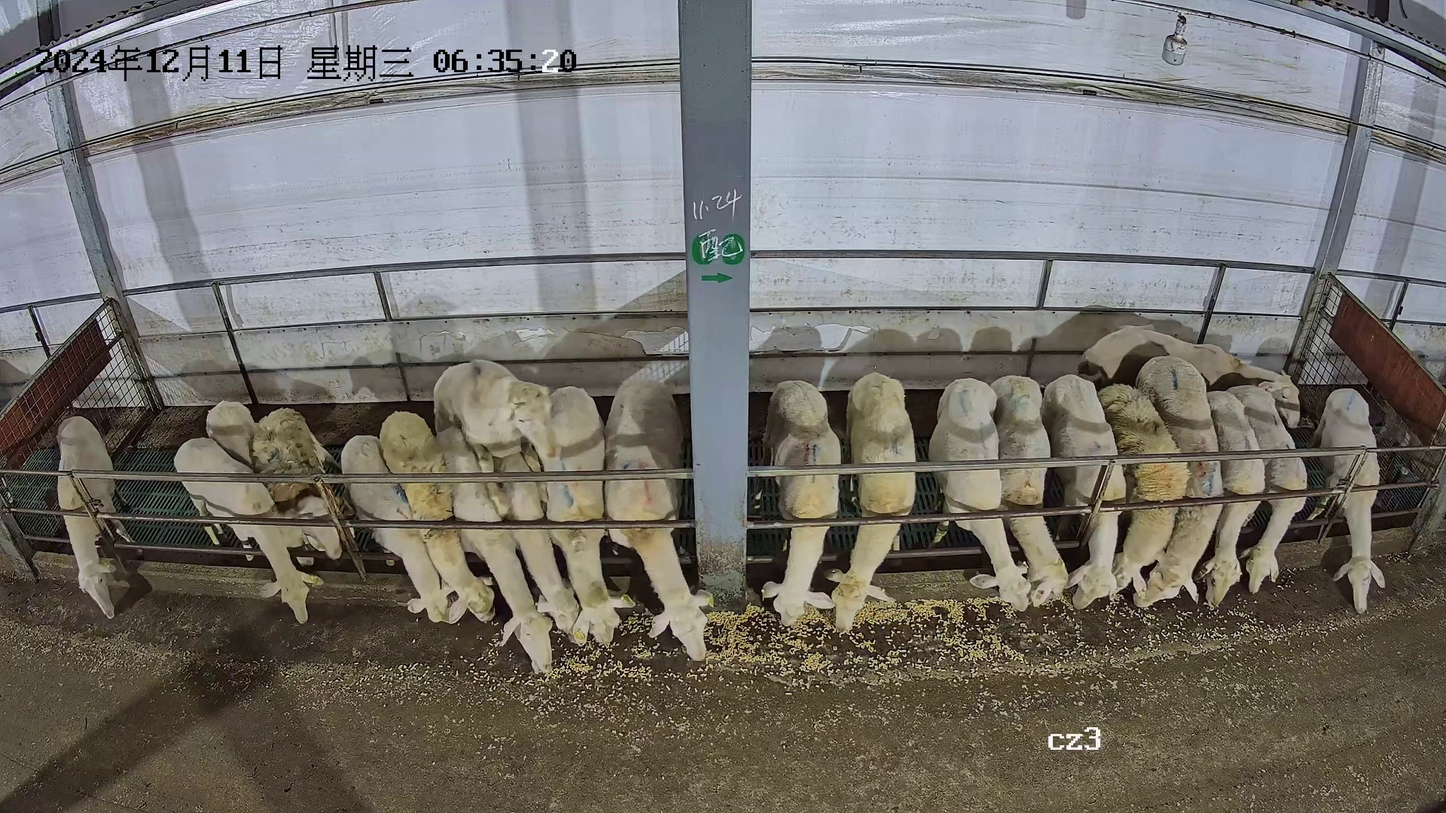Nmounting: (424, 359, 578, 637)
